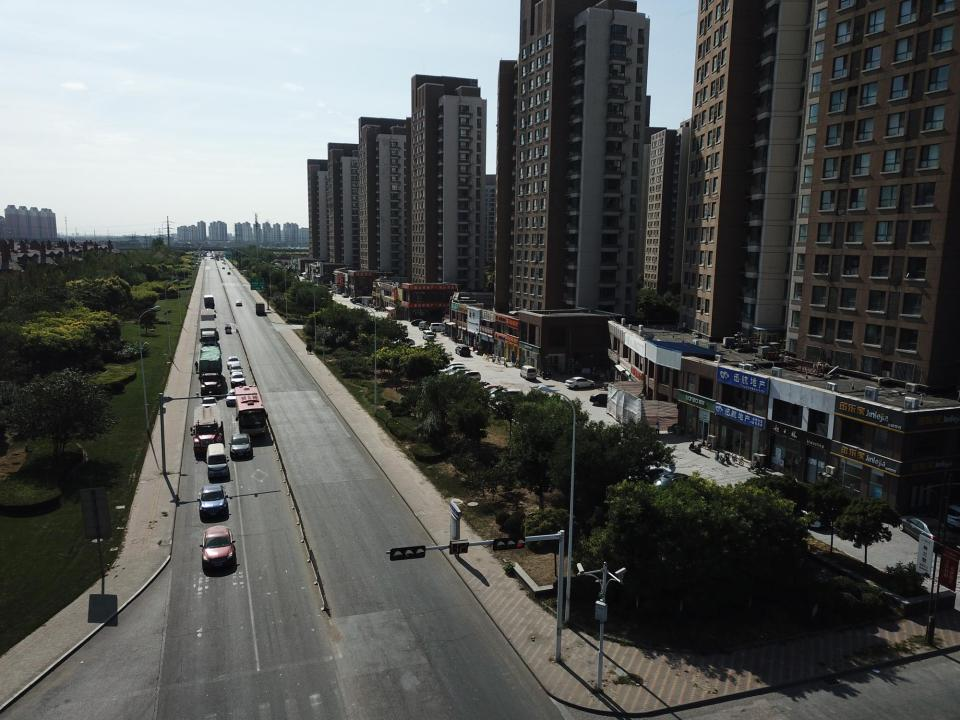bus: (234, 384, 268, 437)
car: (898, 514, 958, 552), (199, 525, 236, 571), (646, 472, 694, 494), (197, 484, 228, 518), (632, 465, 672, 484), (228, 432, 253, 460), (589, 391, 622, 406), (564, 376, 595, 389), (455, 370, 481, 384), (438, 365, 467, 377), (445, 368, 471, 380), (226, 388, 243, 406), (200, 396, 218, 412), (229, 371, 246, 387), (475, 384, 502, 394), (482, 386, 508, 396), (438, 362, 465, 370), (454, 345, 471, 357), (392, 338, 414, 347), (226, 355, 241, 368), (229, 364, 243, 375), (410, 319, 427, 326), (224, 324, 232, 334), (235, 300, 243, 306), (341, 292, 348, 298)
truck: (190, 404, 224, 458), (198, 345, 222, 396), (200, 319, 218, 349), (204, 295, 215, 309), (254, 302, 265, 315)
van: (204, 443, 229, 479), (495, 389, 523, 402), (520, 365, 537, 381), (430, 323, 448, 332), (422, 330, 436, 340), (418, 321, 430, 330)
